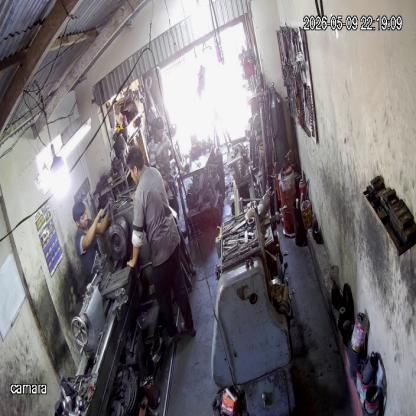sin_lentes: (76, 211, 88, 223)
